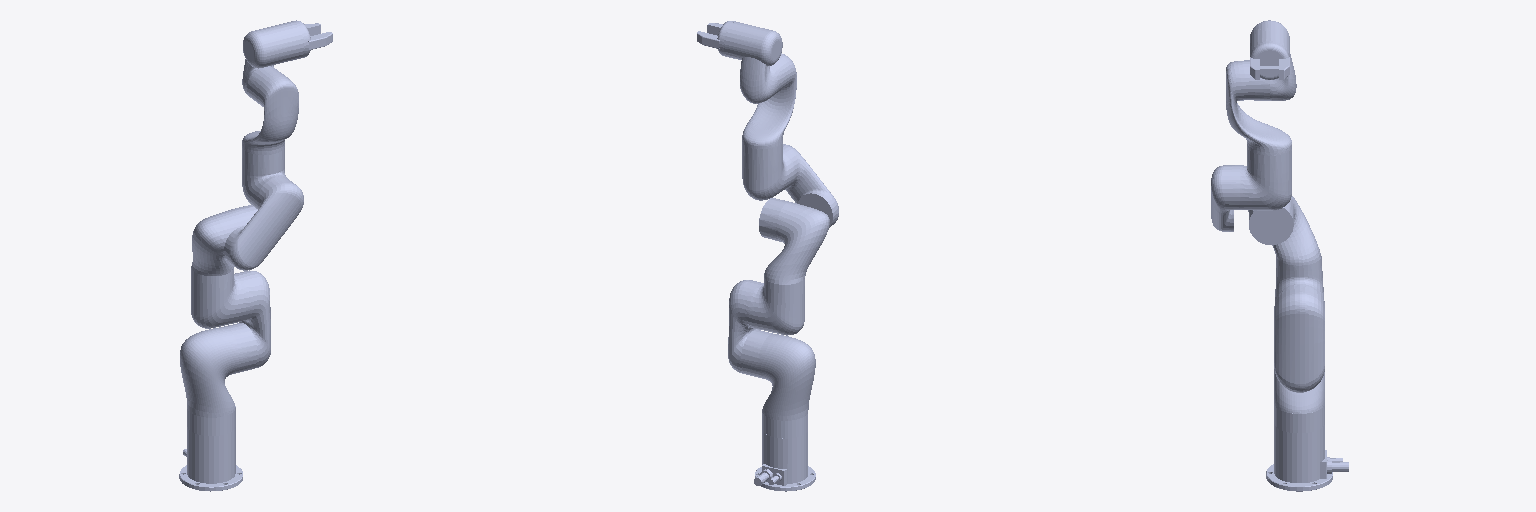
URDF robot description (panda_6dof_urdf):
<?xml version="1.0" encoding="utf-8"?>
<!-- This URDF was automatically created by SolidWorks to URDF Exporter! Originally created by [author] ([email redacted]) 
     Commit Version: 1.6.0-4-g7f85cfe  Build Version: 1.6.7995.38578
     For more information, please see http://wiki.ros.org/sw_urdf_exporter -->
<robot
  name="panda_6dof_urdf">
  <link
    name="base_link">
    <inertial>
      <origin
        xyz="8.75870903212169E-05 0.00150736009052514 0.0725623037258229"
        rpy="0 0 0" />
      <mass
        value="1.15759187717433" />
      <inertia
        ixx="0.00181376896780865"
        ixy="-7.13315396473282E-06"
        ixz="2.63183509587865E-06"
        iyy="0.00171406449080882"
        iyz="4.52934693209047E-05"
        izz="0.00148766404642883" />
    </inertial>
    <visual>
      <origin
        xyz="0 0 0"
        rpy="0 0 0" />
      <geometry>
        <mesh
          filename="package://panda_6dof_urdf/meshes/base_link.STL" />
      </geometry>
      <material
        name="">
        <color
          rgba="0.792156862745098 0.819607843137255 0.933333333333333 1" />
      </material>
    </visual>
    <collision>
      <origin
        xyz="0 0 0"
        rpy="0 0 0" />
      <geometry>
        <mesh
          filename="package://panda_6dof_urdf/meshes/base_link.STL" />
      </geometry>
    </collision>
  </link>
  <link
    name="shoulder_link">
    <inertial>
      <origin
        xyz="0.00369200049884484 4.47503886984315E-07 0.0893240910734214"
        rpy="0 0 0" />
      <mass
        value="1.34776207222447" />
      <inertia
        ixx="0.00325647899329549"
        ixy="1.0513890304926E-09"
        ixz="-0.000444148555931606"
        iyy="0.00408830347692065"
        iyz="-1.72527722560026E-09"
        izz="0.0023944020776749" />
    </inertial>
    <visual>
      <origin
        xyz="0 0 0"
        rpy="0 0 0" />
      <geometry>
        <mesh
          filename="package://panda_6dof_urdf/meshes/shoulder_link.STL" />
      </geometry>
      <material
        name="">
        <color
          rgba="0.792156862745098 0.819607843137255 0.933333333333333 1" />
      </material>
    </visual>
    <collision>
      <origin
        xyz="0 0 0"
        rpy="0 0 0" />
      <geometry>
        <mesh
          filename="package://panda_6dof_urdf/meshes/shoulder_link.STL" />
      </geometry>
    </collision>
  </link>
  <joint
    name="shoulder_joint"
    type="continuous">
    <origin
      xyz="0 0 0.153"
      rpy="0 0 0" />
    <parent
      link="base_link" />
    <child
      link="shoulder_link" />
    <axis
      xyz="0 0 1" />
  </joint>
  <link
    name="elbow_link">
    <inertial>
      <origin
        xyz="0.0318950320874335 -0.0152171914620555 0.160011443406796"
        rpy="0 0 0" />
      <mass
        value="2.62837648612431" />
      <inertia
        ixx="0.0262542116231467"
        ixy="-0.00105398826586254"
        ixz="0.00720331977582331"
        iyy="0.0295958912757897"
        iyz="0.0047252453911216"
        izz="0.0086184077012069" />
    </inertial>
    <visual>
      <origin
        xyz="0 0 0"
        rpy="0 0 0" />
      <geometry>
        <mesh
          filename="package://panda_6dof_urdf/meshes/elbow_link.STL" />
      </geometry>
      <material
        name="">
        <color
          rgba="0.792156862745098 0.819607843137255 0.933333333333333 1" />
      </material>
    </visual>
    <collision>
      <origin
        xyz="0 0 0"
        rpy="0 0 0" />
      <geometry>
        <mesh
          filename="package://panda_6dof_urdf/meshes/elbow_link.STL" />
      </geometry>
    </collision>
  </link>
  <joint
    name="elbow_joint"
    type="continuous">
    <origin
      xyz="0 0 0.115"
      rpy="0 0 0" />
    <parent
      link="shoulder_link" />
    <child
      link="elbow_link" />
    <axis
      xyz="1 0 0" />
  </joint>
  <link
    name="pitch_link">
    <inertial>
      <origin
        xyz="0.0675692847832061 -0.0438578941006053 0.0791087258629317"
        rpy="0 0 0" />
      <mass
        value="1.38577155730204" />
      <inertia
        ixx="0.00588121903401971"
        ixy="-0.00112624765825146"
        ixz="-0.00163332838140276"
        iyy="0.00518959234516093"
        iyz="-0.00179667351996753"
        izz="0.00459632724464668" />
    </inertial>
    <visual>
      <origin
        xyz="0 0 0"
        rpy="0 0 0" />
      <geometry>
        <mesh
          filename="package://panda_6dof_urdf/meshes/pitch_link.STL" />
      </geometry>
      <material
        name="">
        <color
          rgba="0.792156862745098 0.819607843137255 0.933333333333333 1" />
      </material>
    </visual>
    <collision>
      <origin
        xyz="0 0 0"
        rpy="0 0 0" />
      <geometry>
        <mesh
          filename="package://panda_6dof_urdf/meshes/pitch_link.STL" />
      </geometry>
    </collision>
  </link>
  <joint
    name="pitch_joint"
    type="continuous">
    <origin
      xyz="0 -0.05322 0.28467"
      rpy="0 0 0" />
    <parent
      link="elbow_link" />
    <child
      link="pitch_link" />
    <axis
      xyz="0 -1 0" />
  </joint>
  <link
    name="yaw_link">
    <inertial>
      <origin
        xyz="7.47429040257042E-08 -0.0348112445772472 0.0912640629172263"
        rpy="0 0 0" />
      <mass
        value="0.620489684583349" />
      <inertia
        ixx="0.00235158832654727"
        ixy="5.30870148257016E-09"
        ixz="-1.64681562628258E-08"
        iyy="0.00211628142570042"
        iyz="0.000363313170000563"
        izz="0.000719019011254347" />
    </inertial>
    <visual>
      <origin
        xyz="0 0 0"
        rpy="0 0 0" />
      <geometry>
        <mesh
          filename="package://panda_6dof_urdf/meshes/yaw_link.STL" />
      </geometry>
      <material
        name="">
        <color
          rgba="0.792156862745098 0.819607843137255 0.933333333333333 1" />
      </material>
    </visual>
    <collision>
      <origin
        xyz="0 0 0"
        rpy="0 0 0" />
      <geometry>
        <mesh
          filename="package://panda_6dof_urdf/meshes/yaw_link.STL" />
      </geometry>
    </collision>
  </link>
  <joint
    name="yaw_joint"
    type="continuous">
    <origin
      xyz="0.08578 -0.00275 0.16933"
      rpy="0 0 0" />
    <parent
      link="pitch_link" />
    <child
      link="yaw_link" />
    <axis
      xyz="0 0 -1" />
  </joint>
  <link
    name="roll_link">
    <inertial>
      <origin
        xyz="0.0146644631137905 0.00715303137299469 0.0540524118866944"
        rpy="0 0 0" />
      <mass
        value="0.655130839688019" />
      <inertia
        ixx="0.00125574145110672"
        ixy="5.5348908241212E-05"
        ixz="-0.000192407901796083"
        iyy="0.00148378101467563"
        iyz="0.000222903250572777"
        izz="0.000746428390101061" />
    </inertial>
    <visual>
      <origin
        xyz="0 0 0"
        rpy="0 0 0" />
      <geometry>
        <mesh
          filename="package://panda_6dof_urdf/meshes/roll_link.STL" />
      </geometry>
      <material
        name="">
        <color
          rgba="0.792156862745098 0.819607843137255 0.933333333333333 1" />
      </material>
    </visual>
    <collision>
      <origin
        xyz="0 0 0"
        rpy="0 0 0" />
      <geometry>
        <mesh
          filename="package://panda_6dof_urdf/meshes/roll_link.STL" />
      </geometry>
    </collision>
  </link>
  <joint
    name="roll_joint"
    type="continuous">
    <origin
      xyz="0 0 0.13555"
      rpy="0 0 0" />
    <parent
      link="yaw_link" />
    <child
      link="roll_link" />
    <axis
      xyz="0 1 0" />
  </joint>
  <link
    name="gripper_link">
    <inertial>
      <origin
        xyz="0.00850700019439747 -2.38524477946811E-17 0"
        rpy="0 0 0" />
      <mass
        value="0.0696522534936398" />
      <inertia
        ixx="4.99751501028366E-05"
        ixy="5.08653588635102E-20"
        ixz="-2.42591507670376E-21"
        iyy="2.96736019455904E-05"
        iyz="-2.09264804617632E-13"
        izz="2.44056519911202E-05" />
    </inertial>
    <visual>
      <origin
        xyz="0 0 0"
        rpy="0 0 0" />
      <geometry>
        <mesh
          filename="package://panda_6dof_urdf/meshes/gripper_link.STL" />
      </geometry>
      <material
        name="">
        <color
          rgba="0.792156862745098 0.819607843137255 0.933333333333333 1" />
      </material>
    </visual>
    <collision>
      <origin
        xyz="0 0 0"
        rpy="0 0 0" />
      <geometry>
        <mesh
          filename="package://panda_6dof_urdf/meshes/gripper_link.STL" />
      </geometry>
    </collision>
  </link>
  <joint
    name="gripper_joint"
    type="continuous">
    <origin
      xyz="0.071 0 0.077"
      rpy="0 0 0" />
    <parent
      link="roll_link" />
    <child
      link="gripper_link" />
    <axis
      xyz="1 0 0" />
  </joint>
  <link
    name="finger_1_link">
    <inertial>
      <origin
        xyz="0.0278580513017142 0.0268529832142789 -3.83365605927111E-09"
        rpy="0 0 0" />
      <mass
        value="0.021888300887063" />
      <inertia
        ixx="1.40687164746509E-06"
        ixy="3.26569721981782E-07"
        ixz="-6.18358814225851E-12"
        iyy="6.65295676092023E-06"
        iyz="2.0317168261111E-12"
        izz="6.61298512743167E-06" />
    </inertial>
    <visual>
      <origin
        xyz="0 0 0"
        rpy="0 0 0" />
      <geometry>
        <mesh
          filename="package://panda_6dof_urdf/meshes/finger_1_link.STL" />
      </geometry>
      <material
        name="">
        <color
          rgba="0.792156862745098 0.819607843137255 0.933333333333333 1" />
      </material>
    </visual>
    <collision>
      <origin
        xyz="0 0 0"
        rpy="0 0 0" />
      <geometry>
        <mesh
          filename="package://panda_6dof_urdf/meshes/finger_1_link.STL" />
      </geometry>
    </collision>
  </link>
  <joint
    name="finger_1_joint"
    type="prismatic">
    <origin
      xyz="0.01 0 0"
      rpy="0 0 0" />
    <parent
      link="gripper_link" />
    <child
      link="finger_1_link" />
    <axis
      xyz="0 -1 0" />
    <limit
      lower="0"
      upper="0"
      effort="0"
      velocity="0" />
  </joint>
  <link
    name="finger_2_link">
    <inertial>
      <origin
        xyz="0.0278580513017142 0.00564701678572129 0.0100000038336564"
        rpy="0 0 0" />
      <mass
        value="0.021888300887063" />
      <inertia
        ixx="1.40687164746508E-06"
        ixy="-3.26569721981793E-07"
        ixz="6.18358813938686E-12"
        iyy="6.65295676092022E-06"
        iyz="2.03171683002867E-12"
        izz="6.61298512743167E-06" />
    </inertial>
    <visual>
      <origin
        xyz="0 0 0"
        rpy="0 0 0" />
      <geometry>
        <mesh
          filename="package://panda_6dof_urdf/meshes/finger_2_link.STL" />
      </geometry>
      <material
        name="">
        <color
          rgba="0.792156862745098 0.819607843137255 0.933333333333333 1" />
      </material>
    </visual>
    <collision>
      <origin
        xyz="0 0 0"
        rpy="0 0 0" />
      <geometry>
        <mesh
          filename="package://panda_6dof_urdf/meshes/finger_2_link.STL" />
      </geometry>
    </collision>
  </link>
  <joint
    name="finger_2_joint"
    type="prismatic">
    <origin
      xyz="0.01 -0.0325 -0.01"
      rpy="0 0 0" />
    <parent
      link="gripper_link" />
    <child
      link="finger_2_link" />
    <axis
      xyz="0 1 0" />
    <limit
      lower="0"
      upper="0"
      effort="0"
      velocity="0" />
  </joint>
</robot>

--- Render facts (derived) ---
3 views of the same robot in one strip: view 1: azimuth 30°, elevation 25°; view 2: azimuth 150°, elevation 25°; view 3: azimuth 270°, elevation 25° (orthographic).
Model panda_6dof_urdf with 9 links and 8 joints (6 continuous, 2 prismatic), rooted at base_link, posed every joint at zero.
Links seen in each view (by area): view 1: elbow_link, pitch_link, shoulder_link, base_link, yaw_link, roll_link; view 2: elbow_link, shoulder_link, pitch_link, base_link, roll_link, yaw_link; view 3: elbow_link, base_link, pitch_link, yaw_link, roll_link, shoulder_link, gripper_link.
Boxes of the visible links, bbox=[...] form: elbow_link: bbox=[191, 205, 270, 368]; pitch_link: bbox=[224, 148, 303, 270]; shoulder_link: bbox=[180, 323, 257, 417]; base_link: bbox=[179, 406, 242, 491]; yaw_link: bbox=[242, 66, 298, 154]; roll_link: bbox=[242, 22, 303, 97]; elbow_link: bbox=[728, 198, 829, 373]; shoulder_link: bbox=[741, 330, 815, 420]; pitch_link: bbox=[742, 142, 838, 227]; base_link: bbox=[754, 413, 815, 491]; roll_link: bbox=[724, 22, 782, 103]; yaw_link: bbox=[742, 53, 796, 148]; elbow_link: bbox=[1248, 196, 1324, 392]; base_link: bbox=[1266, 404, 1348, 491]; pitch_link: bbox=[1211, 148, 1291, 231]; yaw_link: bbox=[1226, 60, 1291, 155]; roll_link: bbox=[1250, 20, 1296, 100]; shoulder_link: bbox=[1274, 369, 1324, 413]; gripper_link: bbox=[1250, 41, 1289, 79].
Size in the robot's own frame: 0.2926 by 0.2579 by 0.9721 metres.
9 mesh visuals loaded from 9 distinct referenced files (9 binary STL).